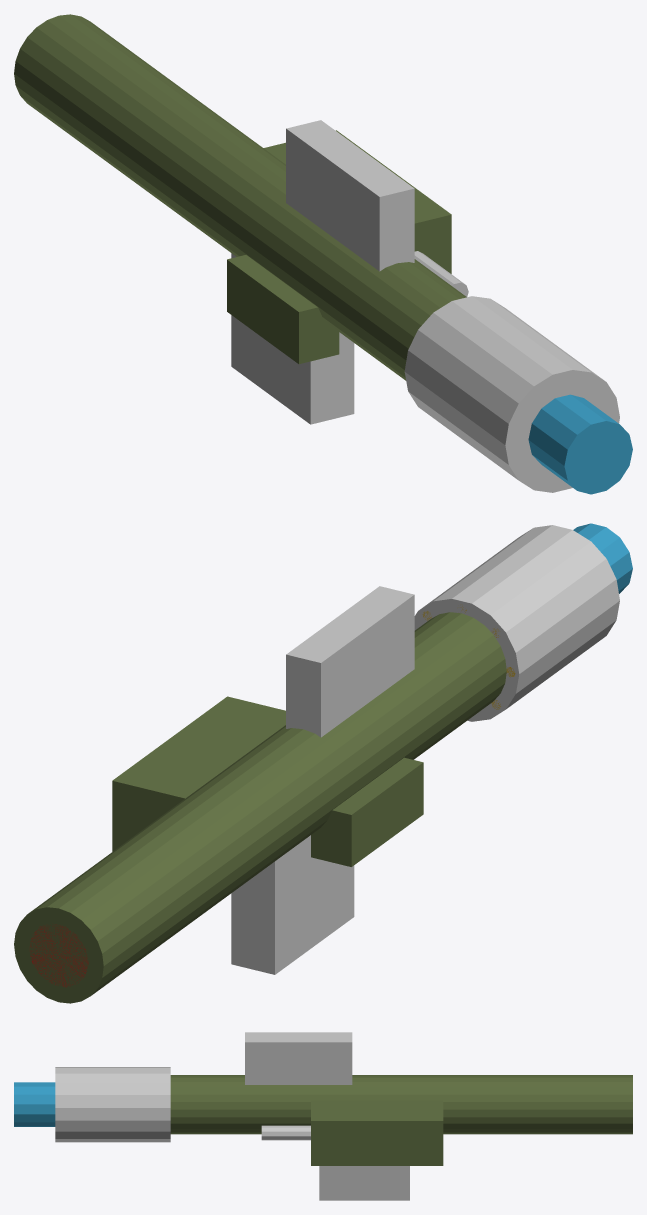
Rendered from manpads.obj.
3 views of the same model, one above another, from view 1: azimuth 30°, elevation 25°; view 2: azimuth 150°, elevation 25°; view 3: azimuth 270°, elevation 25° (orthographic). The views are drawn at different scales.
Visible parts, largest first — view 1: manpads; view 2: manpads; view 3: manpads.
Boxes of the visible parts, x1,y1,x2,y2 form: manpads: (14,14,632,494); manpads: (14,523,632,1003); manpads: (14,1032,632,1200).
Size of the model in its own units: 0.28 by 0.42 by 1.5.
